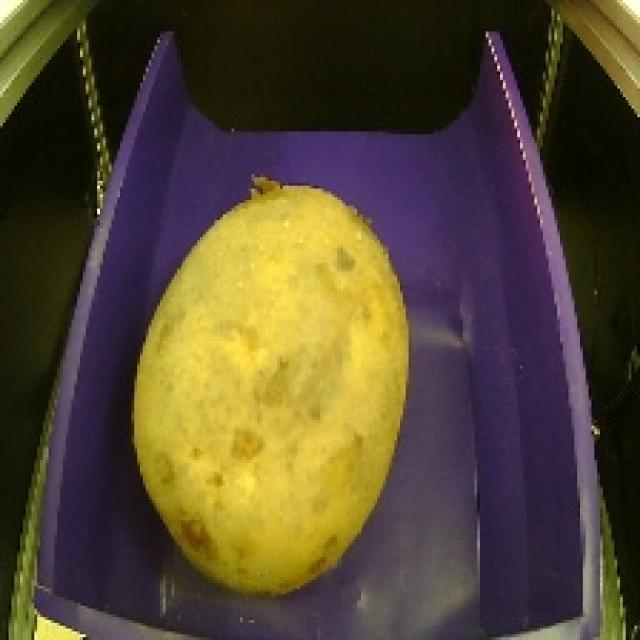full_potato: (112, 161, 424, 607)
